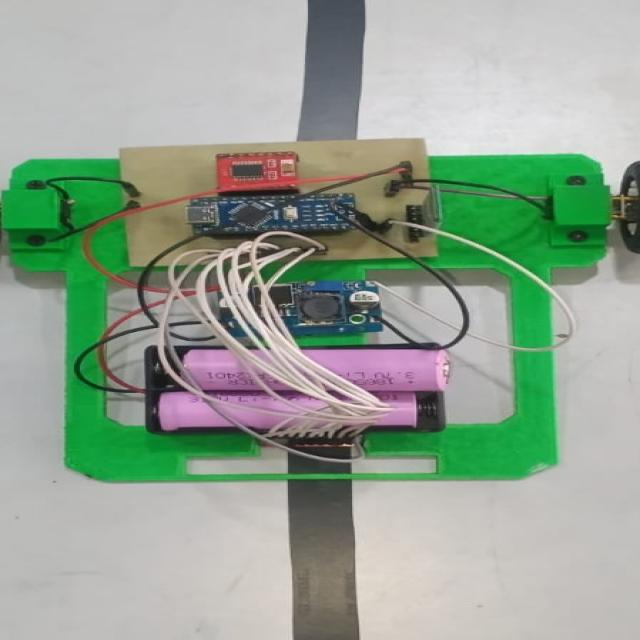vehicle: (0, 142, 640, 468)
